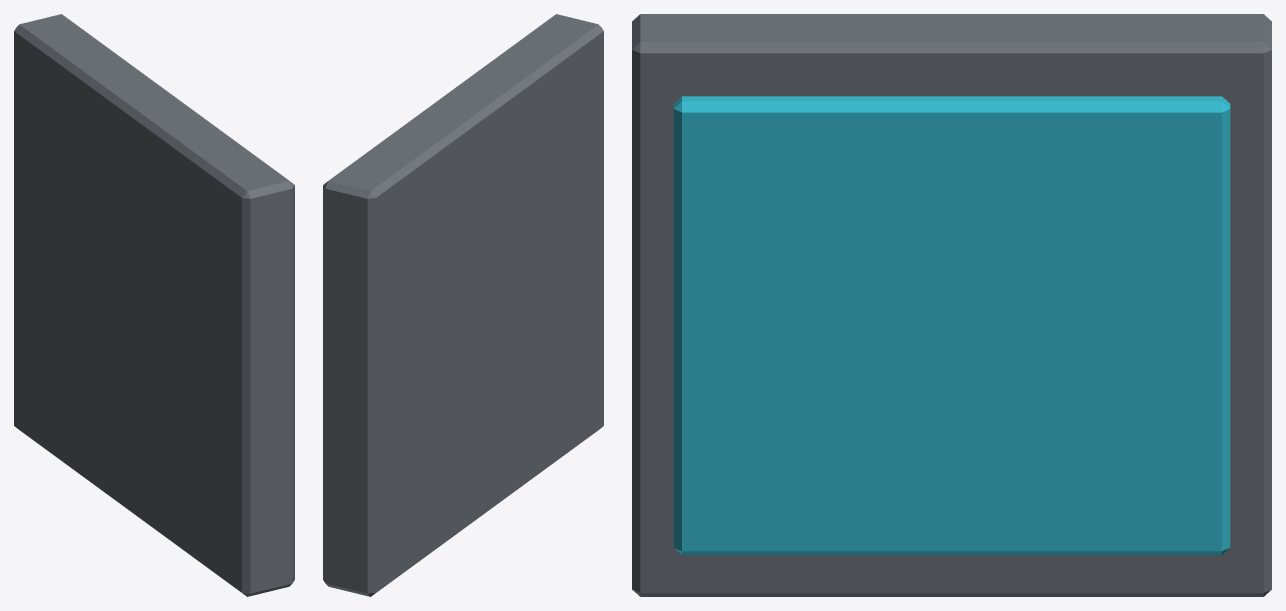
The model's file is water_gate.glb.
The picture shows the model from 3 angles, left to right: view 1: azimuth 30°, elevation 25°; view 2: azimuth 150°, elevation 25°; view 3: azimuth 270°, elevation 25°; orthographic projection. The views are drawn at different scales.
Visible parts, largest first — view 1: water_gate; view 2: water_gate; view 3: water_gate.
Boxes of the visible parts, x1,y1,x2,y2 form: water_gate: (14,14,294,596); water_gate: (323,14,603,596); water_gate: (632,14,1271,596).
Bounding box in the file's own units: 0.075 × 0.44 × 0.46.
